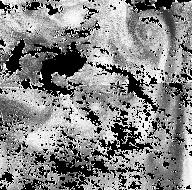CE: (127, 7, 176, 55)
